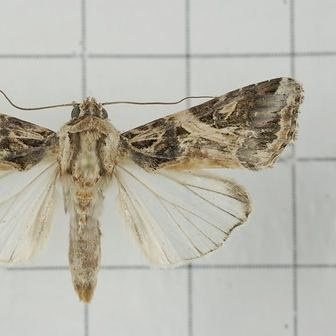Spodoptera litura: (1, 77, 305, 304)
